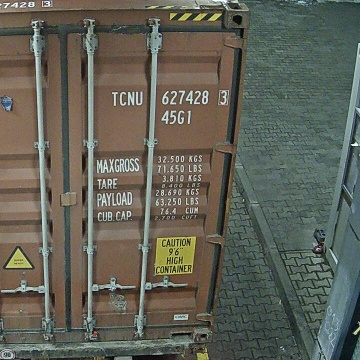serial_id: (112, 90, 227, 105)
